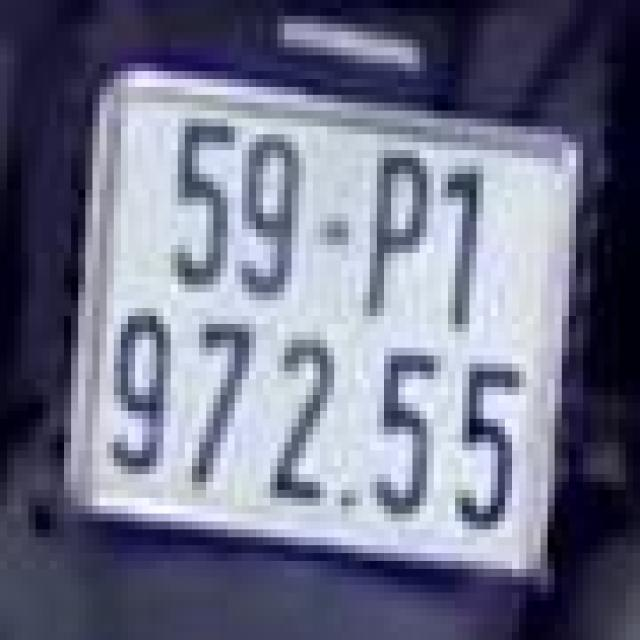1: (430, 142, 494, 340)
2: (266, 324, 338, 506)
5: (448, 360, 526, 541), (370, 340, 441, 529), (167, 115, 238, 296)
7: (182, 316, 260, 506)
9: (103, 300, 174, 490), (238, 123, 302, 312)
P: (362, 134, 433, 332)
